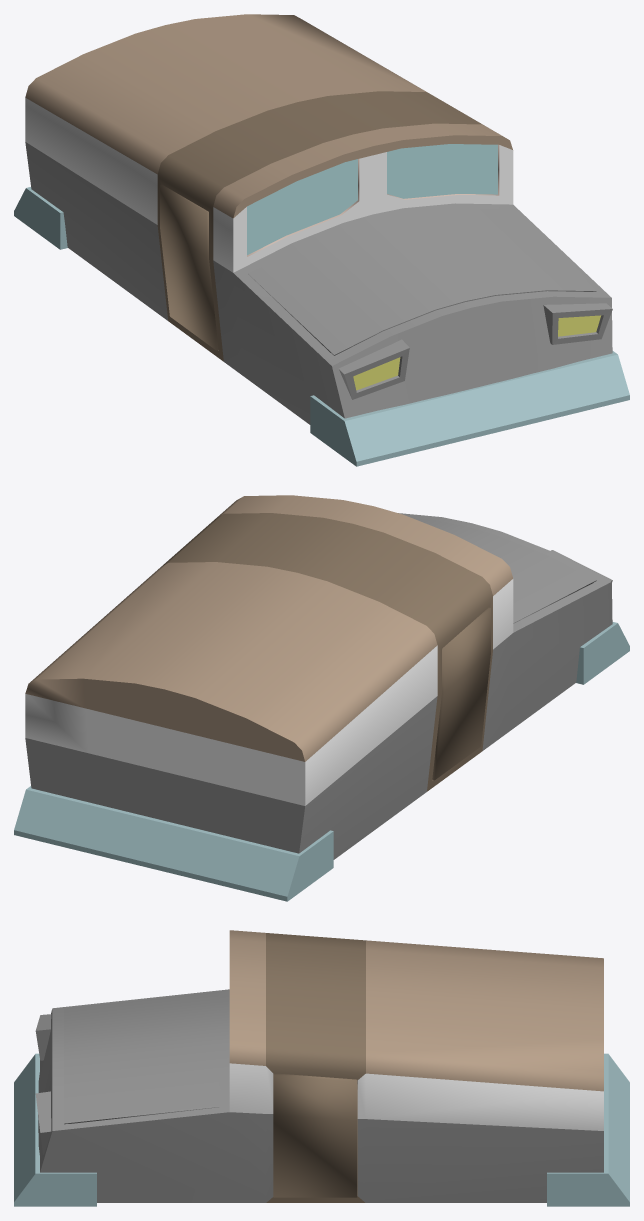
File: Scrappy.fbx
3 views of the same model, one above another, from view 1: azimuth 30°, elevation 25°; view 2: azimuth 150°, elevation 25°; view 3: azimuth 270°, elevation 25° (orthographic). The views are drawn at different scales.
Visible parts, largest first — view 1: SCRAPPY, SCRAPPY_Hood, SCRAPPY_FrontBumper, SCRAPPY_WINDSHIELD, SCRAPPY_door.R, SCRAPPYLamps.R, SCRAPPYLamps.L, SCRAPPY_BackBumper; view 2: SCRAPPY, SCRAPPY_BackBumper, SCRAPPY_door.R, SCRAPPY_Hood, SCRAPPY_FrontBumper; view 3: SCRAPPY, SCRAPPY_Hood, SCRAPPY_door.L, SCRAPPY_BackBumper, SCRAPPY_FrontBumper, SCRAPPYLamps.L, SCRAPPYLamps.R.
Part boxes in pixels (box(x1,y1,x2,y2)): SCRAPPY: box(25, 14, 612, 424); SCRAPPY_Hood: box(248, 208, 596, 355); SCRAPPY_FrontBumper: box(310, 351, 629, 466); SCRAPPY_WINDSHIELD: box(247, 144, 497, 255); SCRAPPY_door.R: box(160, 184, 218, 350); SCRAPPYLamps.R: box(339, 339, 409, 399); SCRAPPYLamps.L: box(543, 303, 612, 344); SCRAPPY_BackBumper: box(14, 187, 67, 249); SCRAPPY: box(25, 495, 612, 859); SCRAPPY_BackBumper: box(14, 786, 333, 901); SCRAPPY_door.R: box(432, 607, 490, 780); SCRAPPY_Hood: box(412, 518, 596, 623); SCRAPPY_FrontBumper: box(576, 622, 629, 684); SCRAPPY: box(38, 930, 603, 1202); SCRAPPY_Hood: box(64, 992, 219, 1124); SCRAPPY_door.L: box(273, 1073, 357, 1197); SCRAPPY_BackBumper: box(547, 1053, 629, 1206); SCRAPPY_FrontBumper: box(14, 1053, 96, 1206); SCRAPPYLamps.L: box(35, 1091, 51, 1154); SCRAPPYLamps.R: box(35, 1014, 51, 1060).
Size of the model in its own units: 2.44 by 5.04 by 1.62.
